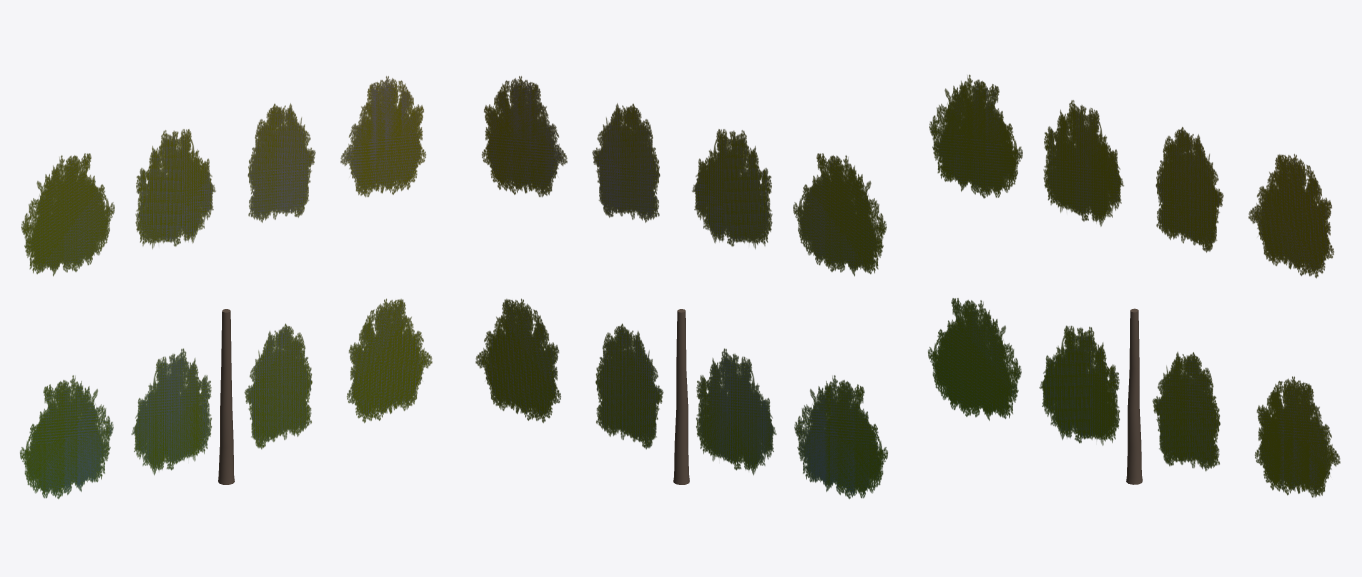
Rendered from tree_small_broad_canopy_lod2_impostor.glb.
3 views of the same model, side by side, from view 1: azimuth 30°, elevation 25°; view 2: azimuth 150°, elevation 25°; view 3: azimuth 330°, elevation 25° (orthographic).
Visible parts, largest first — view 1: TreeHLOD2_Impostor, Tree_Trunk_Stylized; view 2: TreeHLOD2_Impostor, Tree_Trunk_Stylized; view 3: TreeHLOD2_Impostor, Tree_Trunk_Stylized.
Boxes of the visible parts, x1=… form: TreeHLOD2_Impostor: x1=20, y1=76, x2=432, y2=498; Tree_Trunk_Stylized: x1=218, y1=309, x2=234, y2=484; TreeHLOD2_Impostor: x1=475, y1=76, x2=887, y2=498; Tree_Trunk_Stylized: x1=673, y1=309, x2=689, y2=484; TreeHLOD2_Impostor: x1=928, y1=74, x2=1340, y2=497; Tree_Trunk_Stylized: x1=1126, y1=308, x2=1142, y2=484.
Bounding box in the file's own units: 8.47 × 8.47 × 0.2764.
Materials: 2 (1 with a texture image).
